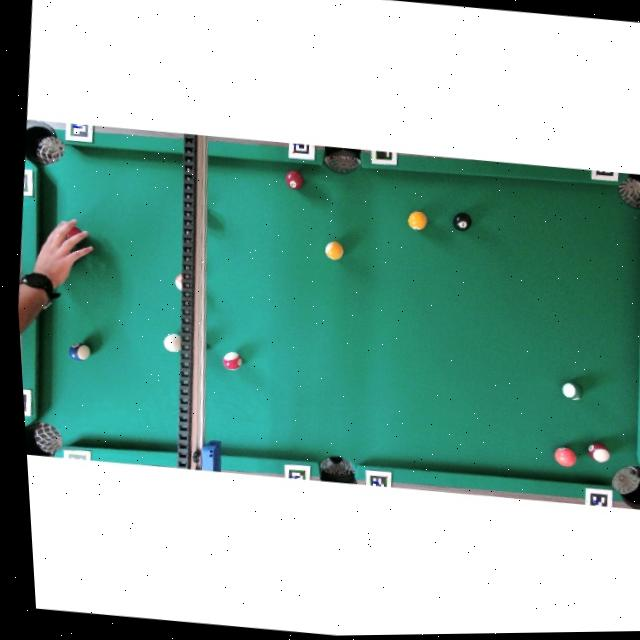cue ball: (162, 332, 182, 352)
other: (552, 445, 578, 467), (586, 441, 611, 463), (66, 341, 90, 362), (450, 211, 473, 232), (407, 210, 429, 231), (283, 169, 305, 190), (221, 351, 243, 371), (561, 381, 583, 401), (324, 240, 345, 260)
